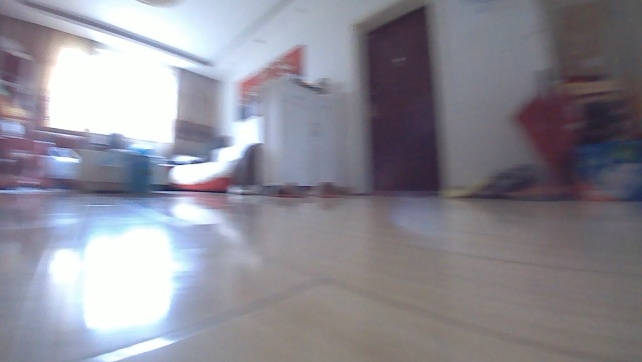door_anno: (342, 0, 451, 197)
sofa1: (163, 142, 260, 191)
